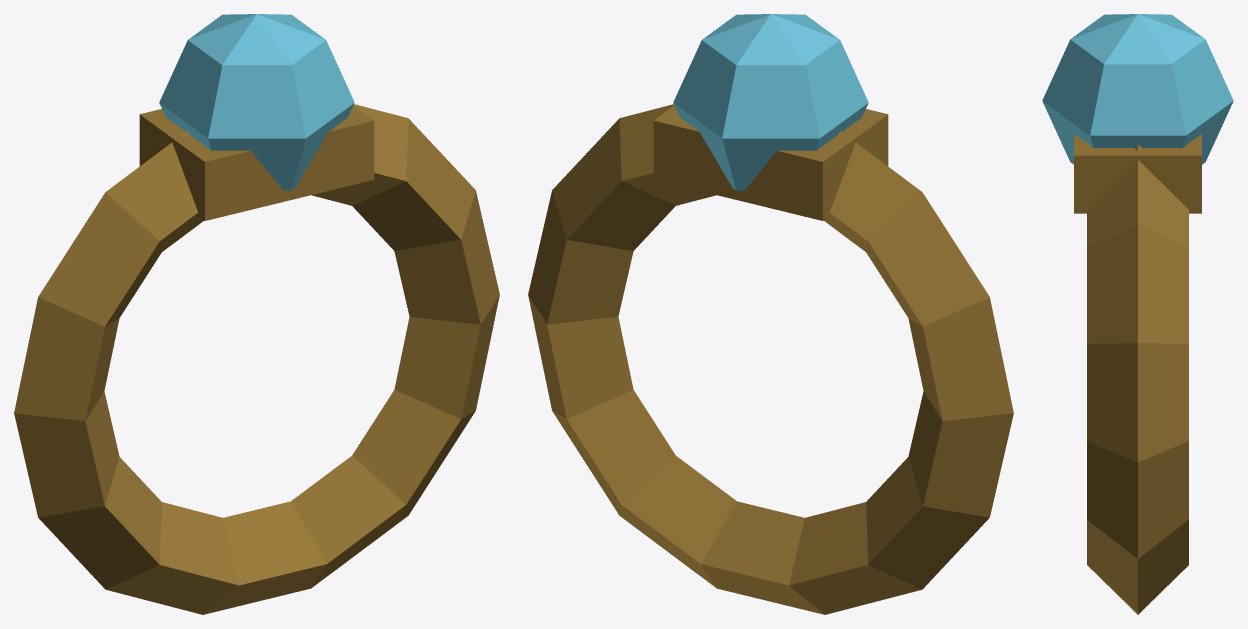
The model's file is ring-force.glb.
3 views of the same model, side by side, from view 1: azimuth 30°, elevation 25°; view 2: azimuth 150°, elevation 25°; view 3: azimuth 270°, elevation 25° (orthographic). The views are drawn at different scales.
Visible parts, largest first — view 1: m; view 2: m; view 3: m.
Part boxes in pixels (box(x1,y1,x2,y2)): m: box(14, 14, 499, 614); m: box(528, 14, 1013, 614); m: box(1042, 14, 1233, 614).
Size of the model in its own units: 0.03 by 0.0347 by 0.0105.
